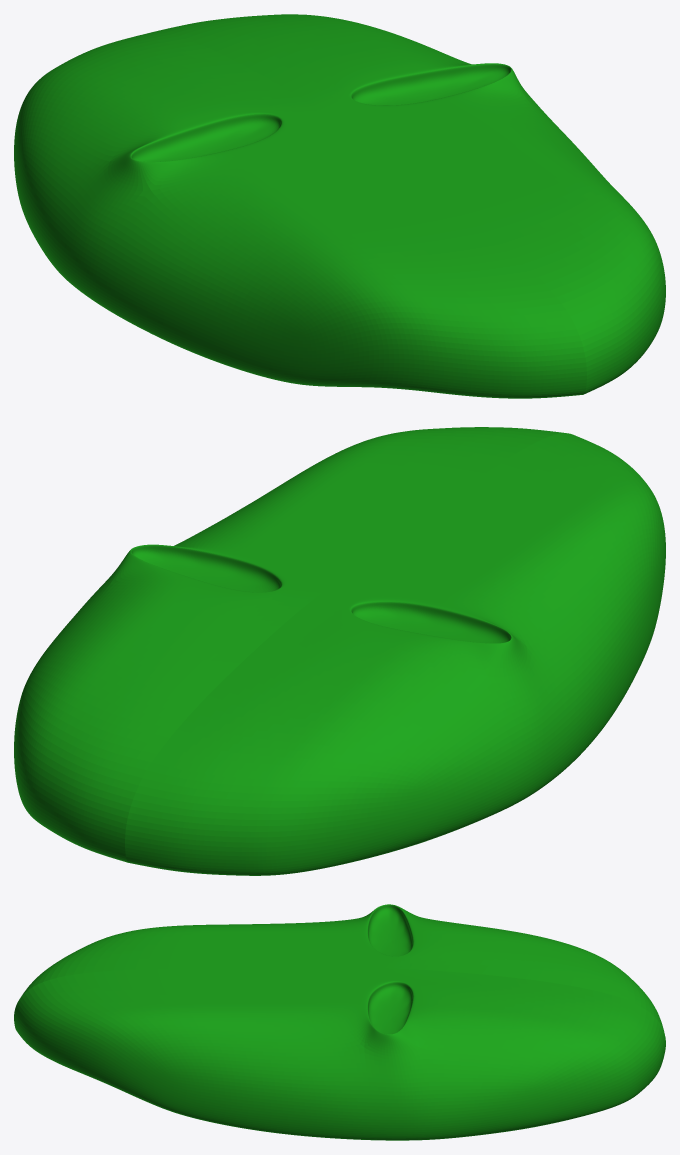
File: Mask.walls.fbx
3 renders of one model, top to bottom at view 1: azimuth 30°, elevation 25°; view 2: azimuth 150°, elevation 25°; view 3: azimuth 270°, elevation 25°, orthographic. The views are drawn at different scales.
Parts seen in each view (by area): view 1: Mask; view 2: Mask; view 3: Mask.
Boxes of the visible parts, left/top/right/bottom form: Mask: left=14, top=14, right=665, bottom=398; Mask: left=14, top=427, right=665, bottom=875; Mask: left=14, top=904, right=665, bottom=1140.
Size of the model in its own units: 324 by 86.8 by 550.
